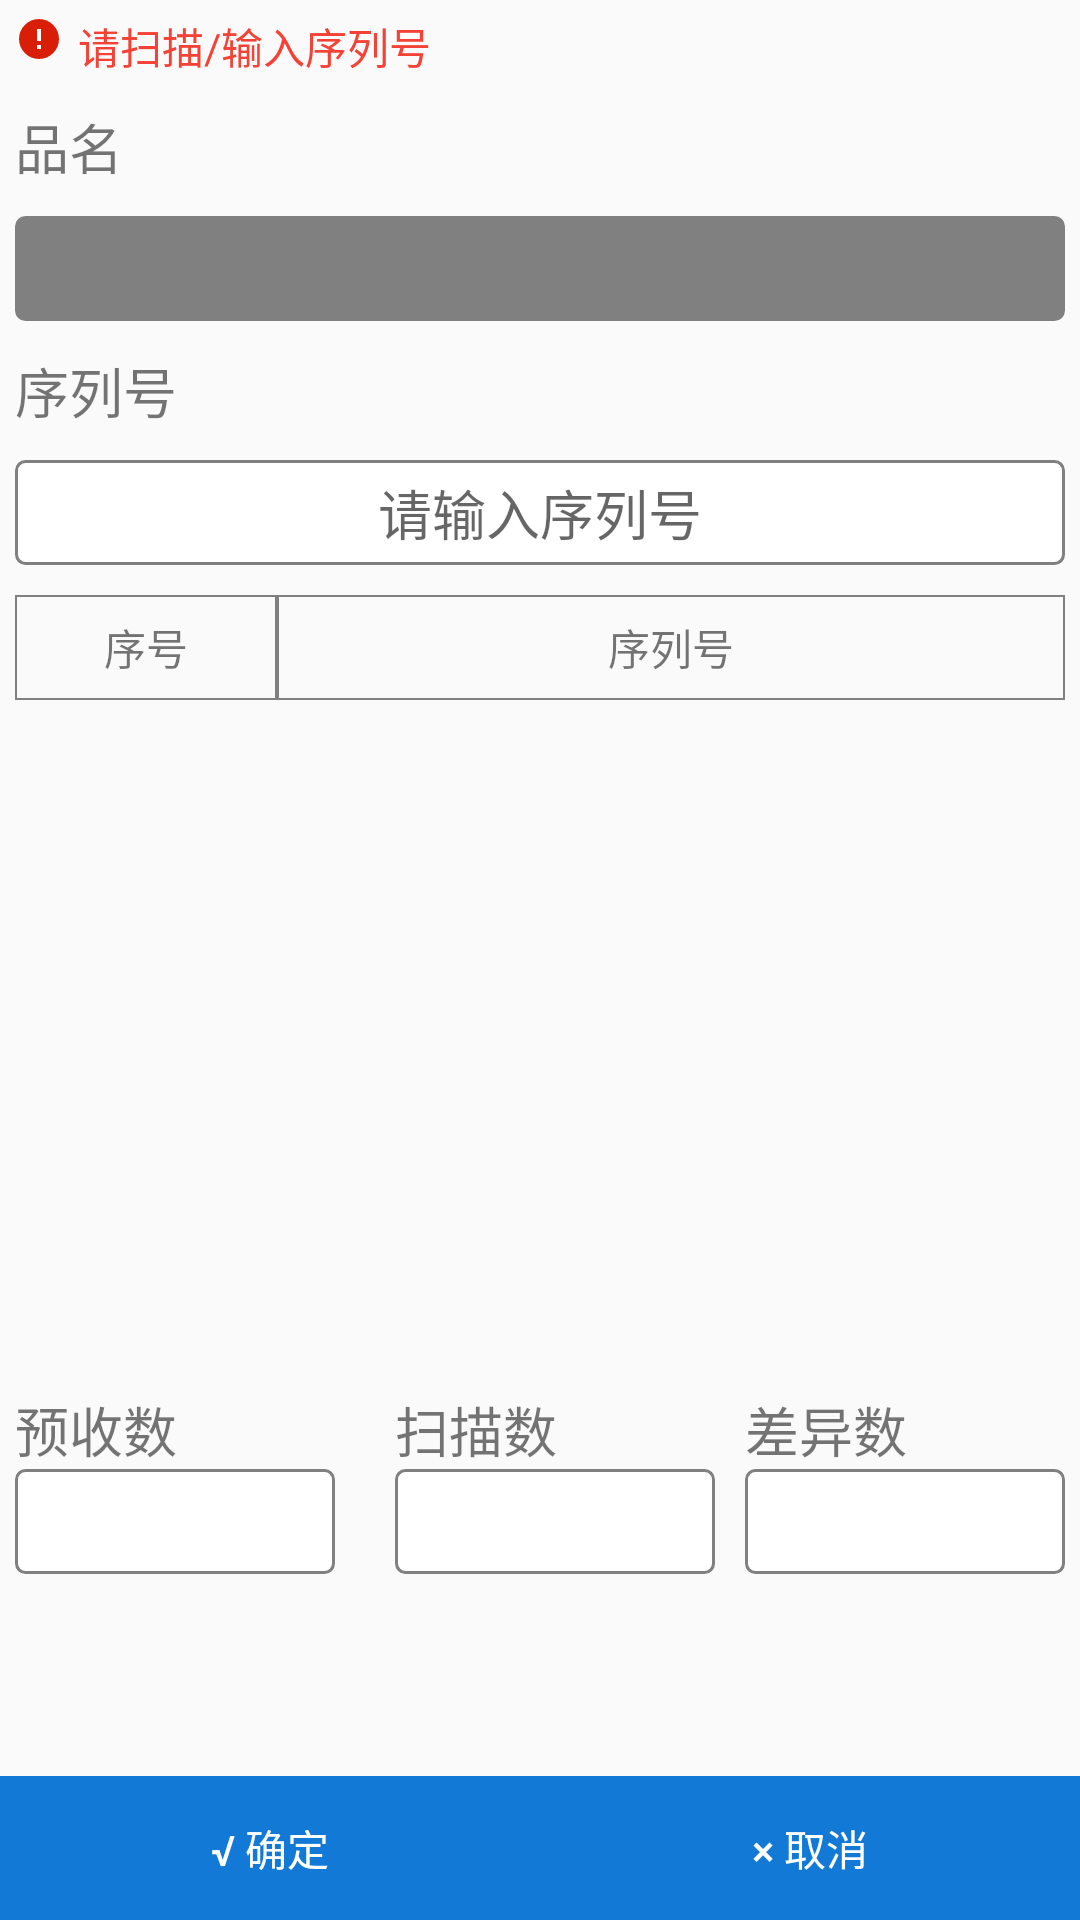

Icon bounding boxes for this 1080 x 1920 phone screenshot, format (x1=x1, y1=y1, x2=x2, y2=y2):
error: (x1=19, y1=19, x2=59, y2=59)
